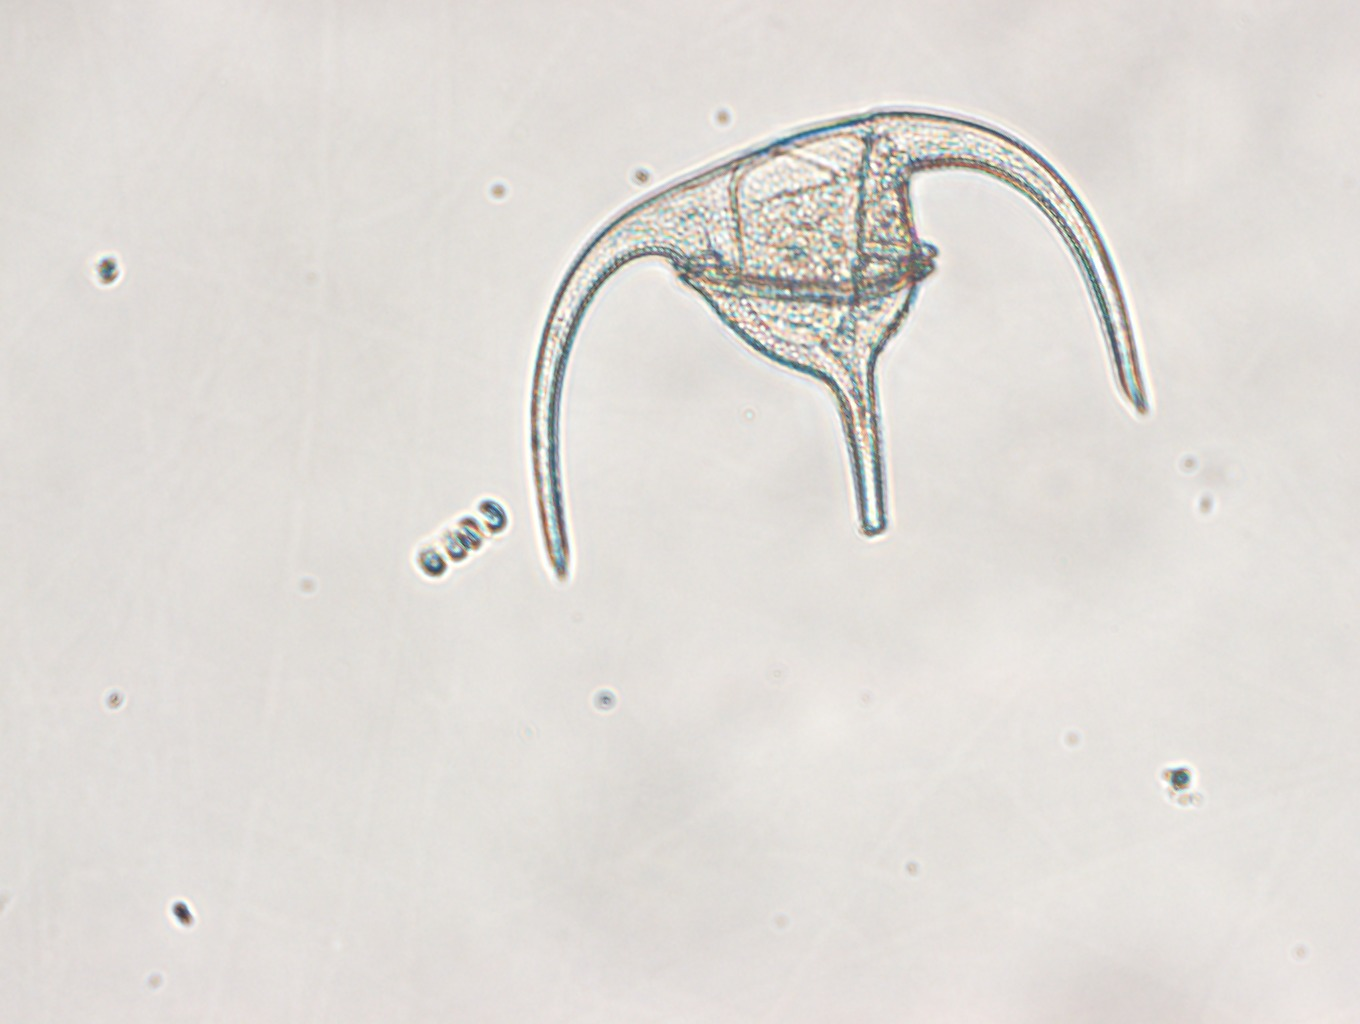ceratium tripos: (530, 105, 1153, 580)
